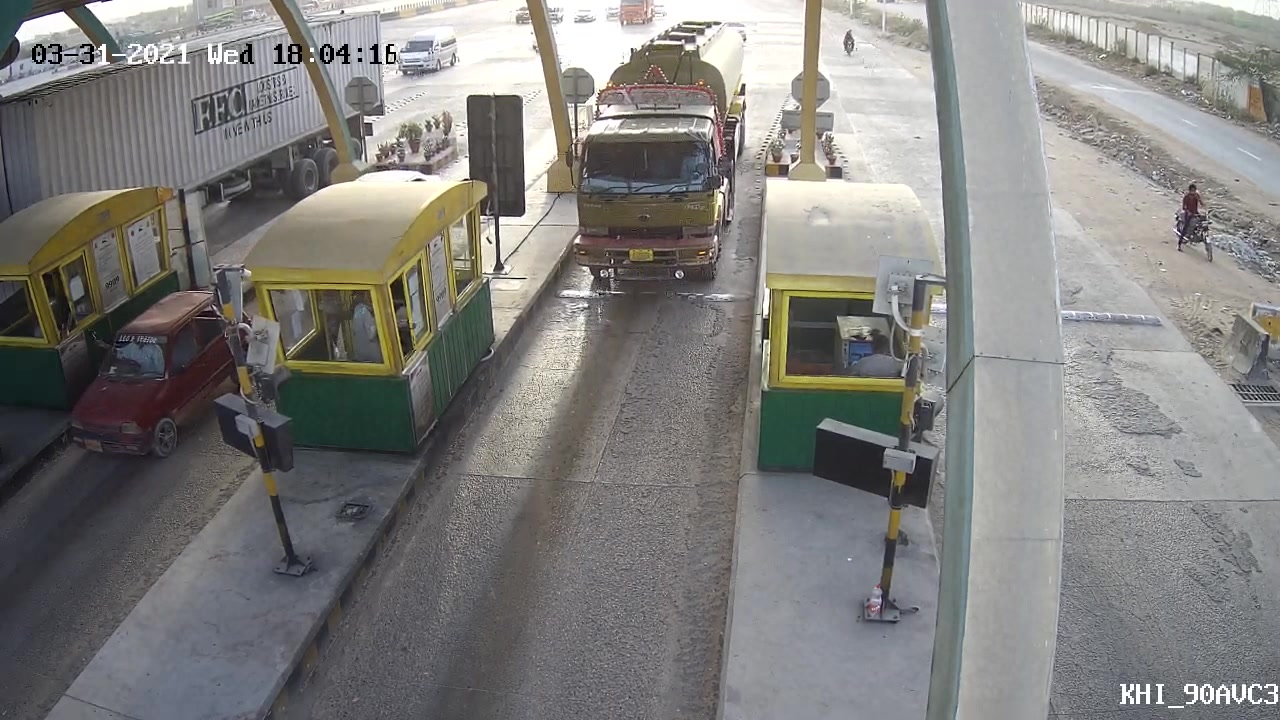F6: (556, 15, 757, 283)
